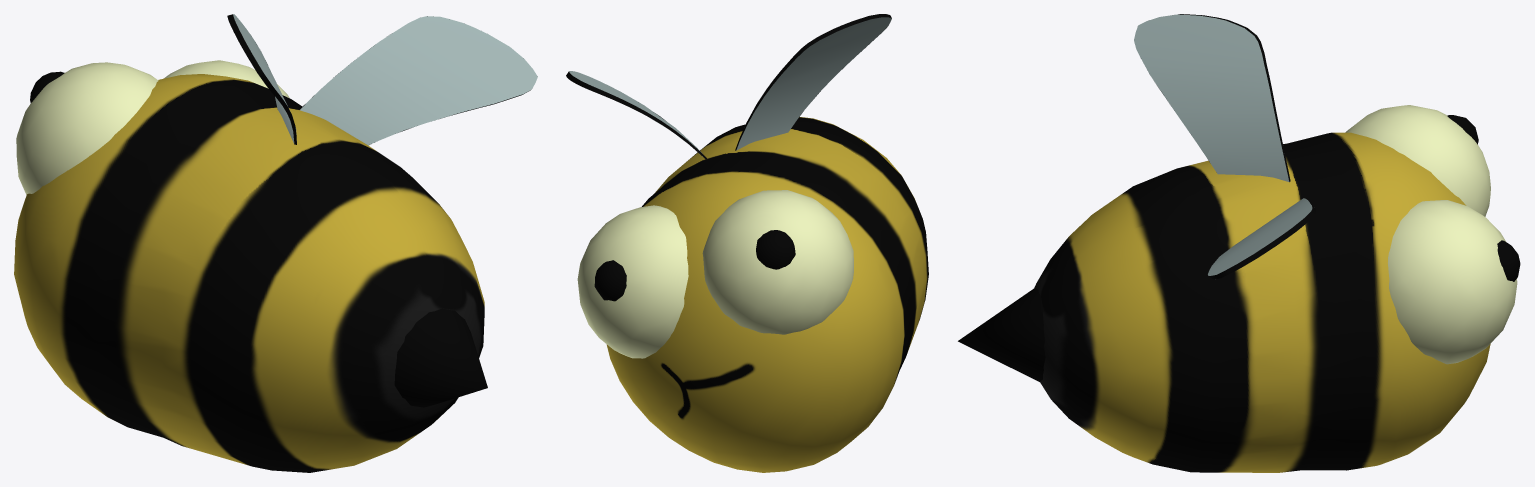
The model's file is plushdeathbee_static.fbx.
The picture shows the model from 3 angles, left to right: view 1: azimuth 30°, elevation 25°; view 2: azimuth 150°, elevation 25°; view 3: azimuth 270°, elevation 25°; orthographic projection. The views are drawn at different scales.
Visible parts, largest first — view 1: body; view 2: body; view 3: body.
Boxes of the visible parts, left/top/right/bottom form: body: left=14, top=14, right=537, bottom=472; body: left=566, top=14, right=928, bottom=472; body: left=958, top=14, right=1520, bottom=472.
Bounding box in the file's own units: 0.2874 × 0.2895 × 0.347.
